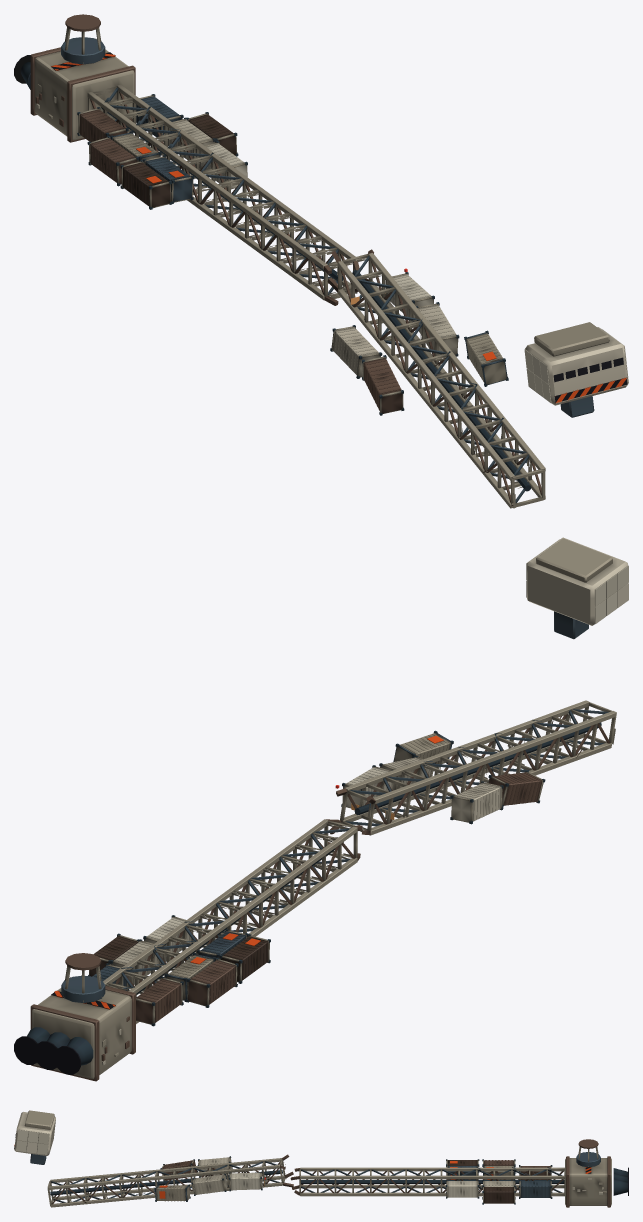
File: freighter.glb
3 views of the same model, one above another, from view 1: azimuth 30°, elevation 25°; view 2: azimuth 150°, elevation 25°; view 3: azimuth 270°, elevation 25° (orthographic). The views are drawn at different scales.
Visible parts, largest first — view 1: keel_fore, keel_aft, engines, bridge, box_4, box_6, box_13, box_5, box_3, box_2, box_0, box_11 (+4 smaller); view 2: keel_fore, keel_aft, engines, bridge, box_3, box_5, box_0, box_6, box_4, box_13, box_1, box_12; view 3: keel_aft, keel_fore, engines, bridge, box_10, box_11, box_7, box_9, box_12, box_13, box_5, box_6 (+6 smaller).
Part boxes in pixels (x1=…): keel_fore: x1=327, y1=249, x2=545, y2=508; keel_aft: x1=87, y1=84, x2=359, y2=305; engines: x1=14, y1=14, x2=135, y2=142; bridge: x1=524, y1=322, x2=628, y2=417; box_4: x1=120, y1=160, x2=172, y2=209; box_6: x1=362, y1=355, x2=404, y2=415; box_13: x1=464, y1=330, x2=508, y2=386; box_5: x1=330, y1=325, x2=382, y2=378; box_3: x1=87, y1=136, x2=139, y2=186; box_2: x1=143, y1=155, x2=194, y2=203; box_0: x1=77, y1=107, x2=128, y2=141; box_11: x1=415, y1=302, x2=459, y2=356; keel_fore: x1=329, y1=700, x2=616, y2=835; keel_aft: x1=103, y1=819, x2=362, y2=1023; engines: x1=14, y1=953, x2=135, y2=1081; bridge: x1=526, y1=537, x2=628, y2=639; box_3: x1=186, y1=957, x2=238, y2=1007; box_5: x1=450, y1=781, x2=503, y2=824; box_0: x1=136, y1=976, x2=183, y2=1026; box_6: x1=488, y1=770, x2=545, y2=806; box_4: x1=219, y1=934, x2=270, y2=983; box_13: x1=393, y1=730, x2=453, y2=763; box_1: x1=164, y1=953, x2=215, y2=1002; box_12: x1=88, y1=933, x2=138, y2=976; keel_aft: x1=290, y1=1167, x2=564, y2=1196; keel_fore: x1=47, y1=1154, x2=293, y2=1207; engines: x1=565, y1=1139, x2=628, y2=1207; bridge: x1=14, y1=1110, x2=55, y2=1164; box_10: x1=228, y1=1171, x2=262, y2=1191; box_11: x1=191, y1=1173, x2=228, y2=1195; box_7: x1=519, y1=1180, x2=552, y2=1198; box_9: x1=446, y1=1180, x2=479, y2=1198; box_12: x1=482, y1=1186, x2=515, y2=1204; box_13: x1=154, y1=1184, x2=190, y2=1201; box_5: x1=197, y1=1156, x2=232, y2=1177; box_6: x1=160, y1=1159, x2=197, y2=1180.
Bounding box in the file's own units: 31.41 × 36.53 × 209.
